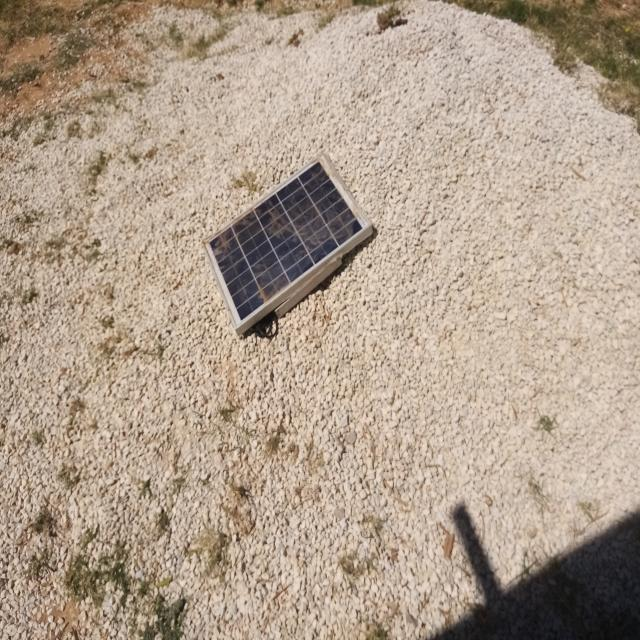faulty: (203, 153, 371, 327)
